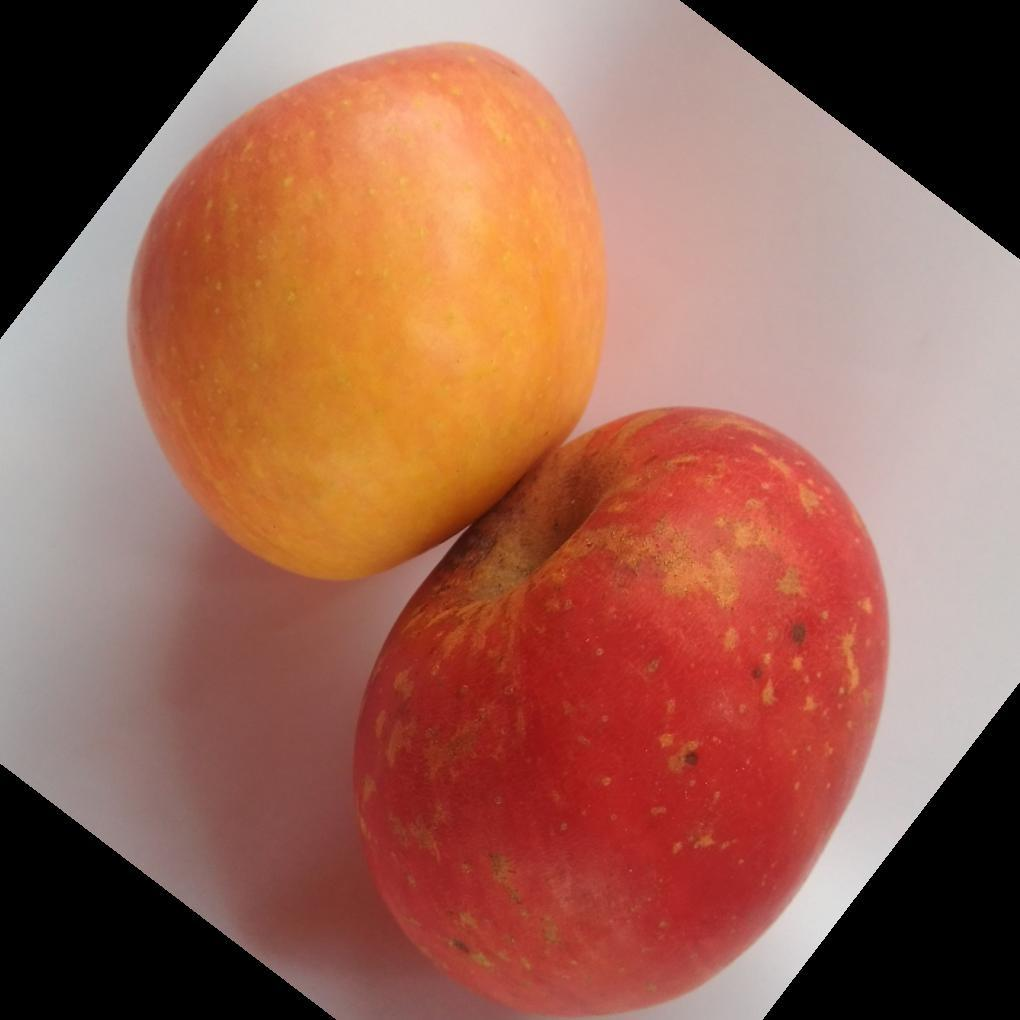FreshGuava: (125, 42, 891, 1020)
